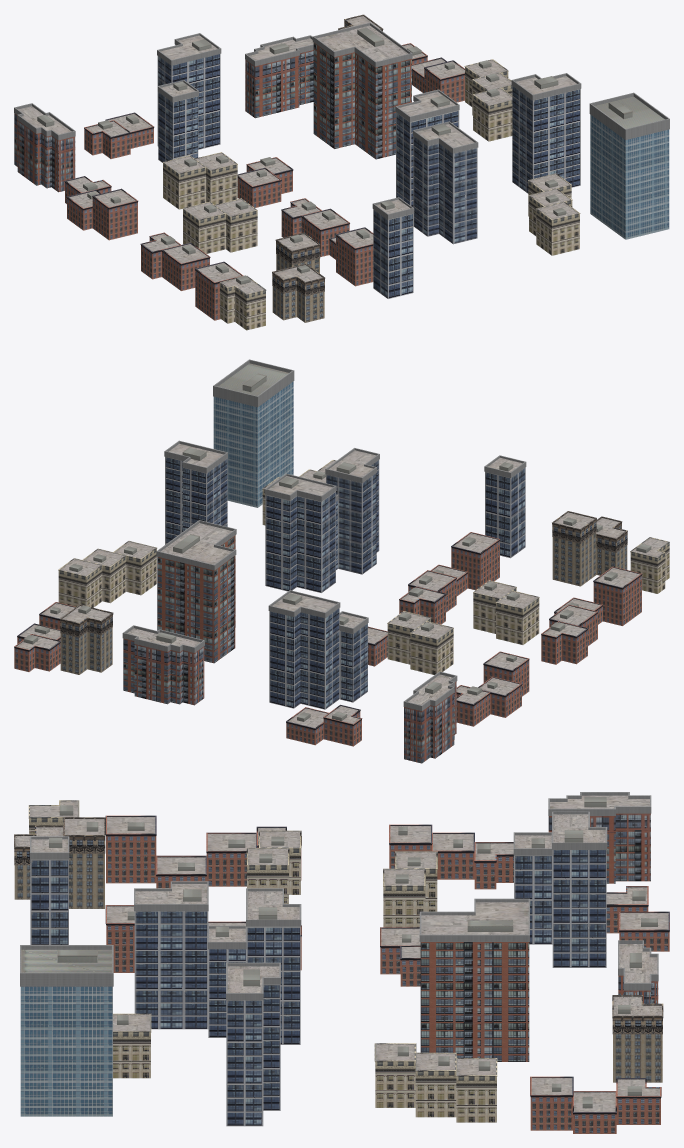
Rendered from Buildings_topping.obj.
3 views of the same model, one above another, from view 1: azimuth 30°, elevation 25°; view 2: azimuth 150°, elevation 25°; view 3: azimuth 270°, elevation 25° (orthographic). The views are drawn at different scales.
Visible parts, largest first — view 1: Building_271_2, building_of_type_6_2, Building_013_2, Building_272_2, Building_308_2, Building_295_2, Building_263_2, Building_296_2, Building_287_2, Building_274_2, Building_304_2, Building_271_4 (+38 smaller); view 2: building_of_type_6_2, Building_295_2, Building_274_2, Building_271_2, Building_272_2, Building_013_2, Building_263_2, Building_308_2, Building_287_2, Building_264_2, Building_296_2, Building_305_2 (+29 smaller); view 3: Building_271_2, building_of_type_6_2, Building_272_2, Building_013_2, Building_295_2, Building_274_2, Building_308_2, Building_296_2, Building_271_4, Building_287_2, Building_264_2, Building_302_2 (+68 smaller).
Boxes of the visible parts, left/top/right/bottom form: Building_271_2: left=313, top=42, right=411, bottom=159; building_of_type_6_2: left=590, top=114, right=669, bottom=239; Building_013_2: left=512, top=86, right=580, bottom=193; Building_272_2: left=413, top=136, right=477, bottom=244; Building_308_2: left=373, top=209, right=413, bottom=298; Building_295_2: left=157, top=45, right=220, bottom=149; Building_263_2: left=245, top=62, right=313, bottom=118; Building_296_2: left=158, top=92, right=198, bottom=162; Building_287_2: left=14, top=126, right=75, bottom=192; Building_274_2: left=396, top=101, right=459, bottom=207; Building_304_2: left=272, top=286, right=324, bottom=322; Building_271_4: left=317, top=25, right=408, bottom=61; building_of_type_6_2: left=213, top=381, right=293, bottom=507; Building_295_2: left=269, top=608, right=339, bottom=709; Building_274_2: left=265, top=491, right=335, bottom=592; Building_271_2: left=157, top=535, right=235, bottom=663; Building_272_2: left=326, top=460, right=379, bottom=574; Building_013_2: left=165, top=456, right=227, bottom=544; Building_263_2: left=123, top=651, right=204, bottom=705; Building_308_2: left=485, top=467, right=525, bottom=558; Building_287_2: left=404, top=694, right=456, bottom=763; Building_264_2: left=60, top=627, right=112, bottom=674; Building_296_2: left=339, top=623, right=367, bottom=702; Building_305_2: left=552, top=533, right=596, bottom=586; Building_271_2: left=420, top=942, right=529, bottom=1061; building_of_type_6_2: left=20, top=986, right=112, bottom=1116; Building_272_2: left=134, top=911, right=208, bottom=1029; Building_013_2: left=226, top=984, right=280, bottom=1126; Building_295_2: left=552, top=850, right=606, bottom=967; Building_274_2: left=246, top=926, right=300, bottom=1044; Building_308_2: left=30, top=859, right=68, bottom=944; Building_296_2: left=514, top=855, right=552, bottom=944; Building_271_4: left=421, top=902, right=528, bottom=934; Building_287_2: left=606, top=830, right=650, bottom=883; Building_264_2: left=613, top=1034, right=662, bottom=1082; Building_302_2: left=106, top=841, right=156, bottom=883.
Size of the model in its own units: 873 by 240 by 876.
